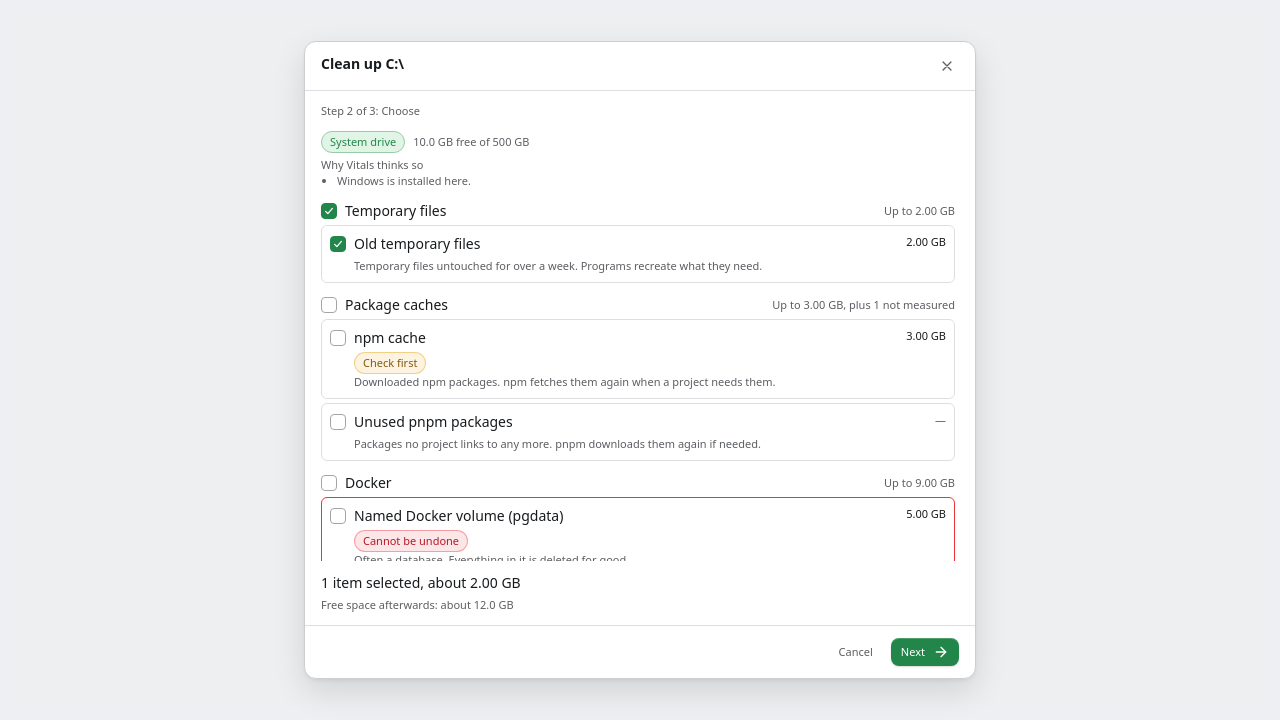
Scenario: drive clean-up wizard › says a refused run changed nothing
This screenshot has width=1280, height=720.
Expected: the element "Temporary files" is shown, [321, 201, 955, 283]
Step 1. Click the button "Next" → x=925, y=652, box [891, 638, 959, 666]
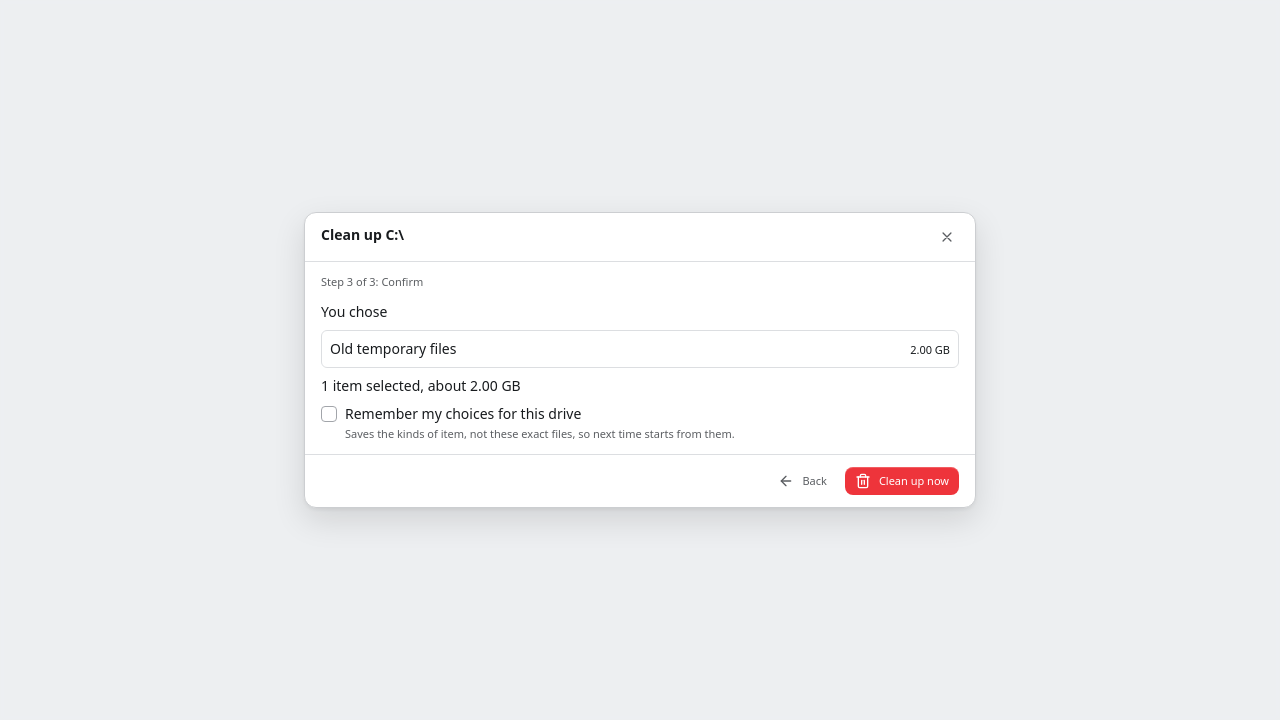
Step 2. Click the button "Clean up now" → x=902, y=481, box [845, 467, 959, 495]
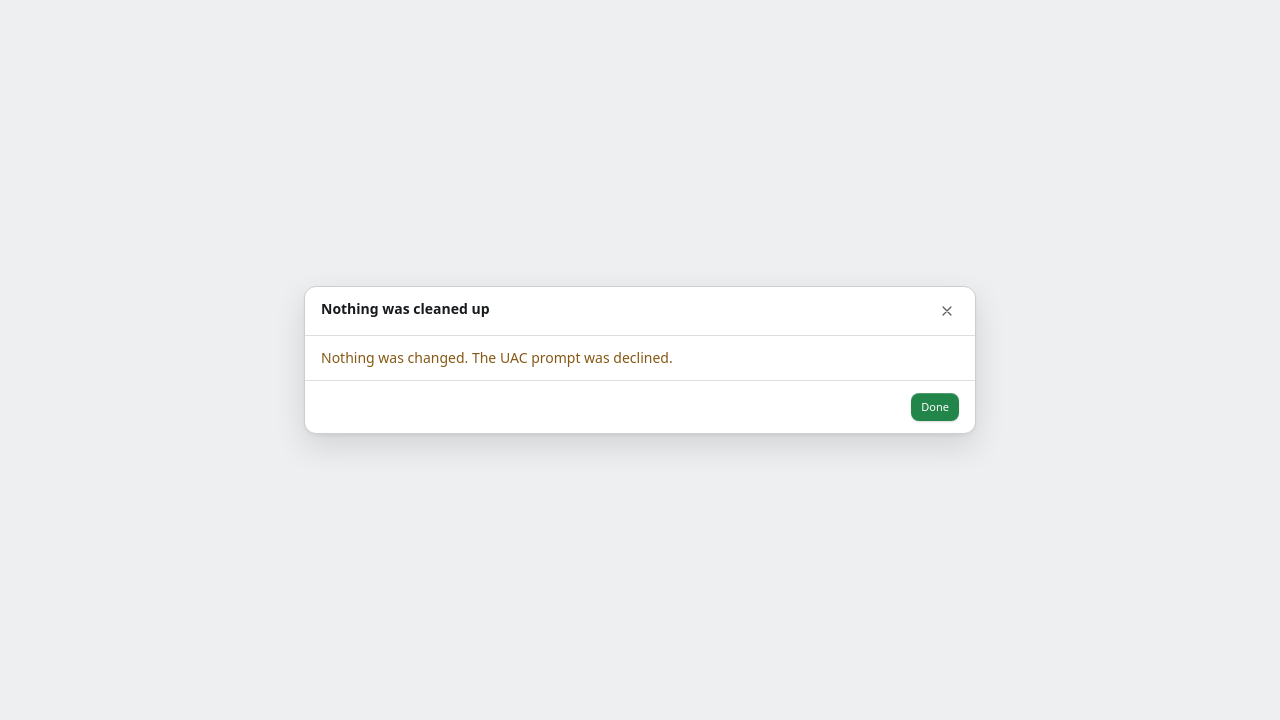
Expected: the dialog "Nothing was cleaned up" is shown, [304, 286, 976, 434]
Expected: the text "Nothing was changed. The UAC prompt was declined." is shown, [321, 348, 673, 367]
